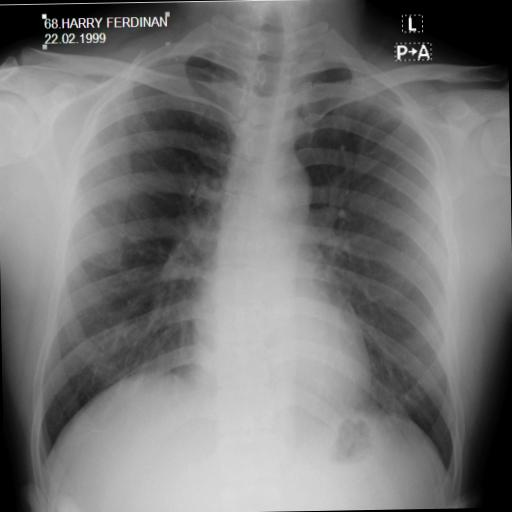normal: (20, 32, 467, 494)
